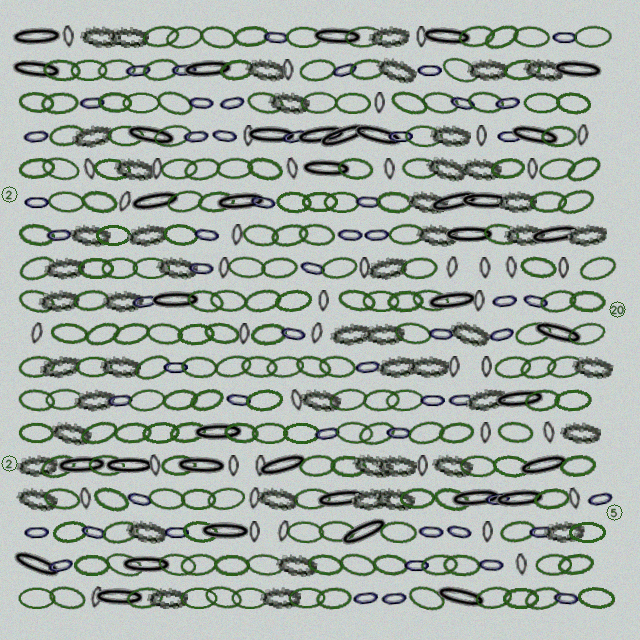chain: (335, 511, 394, 553), (7, 545, 66, 585), (314, 117, 373, 155), (529, 316, 587, 351), (254, 448, 312, 483), (349, 119, 407, 153), (426, 185, 484, 219), (515, 449, 573, 482), (432, 581, 490, 614), (122, 120, 180, 152), (506, 120, 564, 152), (127, 186, 184, 217), (527, 220, 584, 250), (293, 121, 350, 150), (8, 56, 65, 84), (424, 287, 481, 315), (313, 485, 370, 513), (563, 151, 605, 187), (492, 386, 548, 413), (448, 485, 504, 512), (439, 53, 482, 87), (131, 350, 174, 384), (419, 24, 475, 50), (550, 57, 606, 83), (213, 189, 269, 215), (492, 486, 548, 512), (374, 54, 419, 86), (481, 20, 523, 54), (554, 185, 597, 218), (180, 57, 236, 82), (54, 453, 110, 478), (424, 153, 469, 184), (447, 318, 492, 349), (463, 384, 508, 415), (9, 25, 65, 49), (154, 87, 196, 119), (388, 87, 430, 119), (16, 252, 58, 284), (577, 252, 619, 284), (82, 318, 124, 350), (78, 417, 120, 449), (90, 483, 132, 515), (103, 549, 145, 581), (310, 25, 365, 49), (70, 121, 114, 151), (299, 157, 354, 181), (365, 253, 409, 283), (174, 454, 229, 478), (38, 450, 79, 482), (406, 582, 447, 614), (38, 352, 82, 381), (351, 451, 395, 480), (244, 124, 299, 147), (458, 190, 513, 213), (148, 289, 203, 312), (191, 421, 246, 444), (198, 520, 253, 543), (92, 586, 147, 609), (110, 319, 152, 349), (356, 418, 398, 448), (337, 550, 379, 580), (522, 583, 564, 613), (125, 221, 169, 249), (49, 419, 93, 447), (15, 485, 59, 513), (16, 286, 57, 316), (566, 319, 607, 349), (293, 352, 334, 382), (518, 352, 559, 382), (431, 484, 472, 514), (442, 224, 497, 246), (102, 455, 157, 477), (119, 554, 174, 576), (565, 221, 608, 249), (329, 320, 372, 348), (349, 485, 392, 513), (187, 385, 227, 415), (40, 154, 81, 183), (244, 154, 285, 183), (242, 286, 283, 315), (336, 286, 377, 315), (406, 418, 447, 447), (203, 583, 244, 612), (376, 353, 419, 380), (431, 452, 474, 479), (256, 485, 299, 512), (125, 518, 168, 545), (165, 187, 205, 216), (513, 319, 553, 348), (213, 352, 253, 381), (47, 583, 87, 612), (164, 23, 205, 51), (245, 89, 286, 117), (420, 89, 461, 117), (152, 122, 193, 150), (537, 155, 578, 183), (269, 221, 310, 249), (185, 287, 226, 315), (198, 23, 238, 51), (182, 155, 222, 183), (319, 254, 359, 282), (538, 287, 578, 315), (100, 518, 140, 546), (113, 156, 156, 182), (406, 189, 449, 215), (43, 255, 86, 281), (571, 354, 614, 380), (73, 387, 116, 413), (299, 387, 342, 413), (373, 486, 416, 512), (275, 552, 318, 578), (545, 353, 586, 380), (141, 23, 181, 50), (47, 122, 87, 149), (79, 188, 119, 215), (518, 254, 558, 281), (273, 287, 313, 314), (202, 320, 242, 347), (393, 320, 433, 347), (328, 386, 368, 413), (206, 485, 246, 512), (498, 518, 538, 545), (157, 551, 197, 578), (457, 23, 496, 50), (141, 56, 180, 83), (466, 89, 505, 116), (17, 221, 56, 248), (482, 221, 521, 248), (411, 287, 450, 314), (168, 419, 207, 446), (51, 518, 90, 545), (556, 551, 595, 578), (474, 584, 513, 611), (368, 24, 410, 49), (245, 57, 287, 82), (523, 57, 565, 82), (268, 90, 310, 115), (156, 255, 198, 280), (38, 288, 80, 313), (16, 453, 58, 478), (543, 519, 585, 544), (502, 57, 542, 83), (92, 156, 132, 182), (196, 189, 236, 215), (265, 354, 305, 380), (127, 387, 167, 413), (244, 387, 284, 413), (491, 453, 531, 479), (42, 486, 82, 512), (147, 486, 187, 512), (245, 552, 285, 578), (125, 585, 165, 611), (298, 57, 337, 83), (554, 90, 593, 116), (241, 222, 280, 248), (145, 321, 184, 347), (249, 321, 288, 347), (493, 354, 532, 380), (17, 387, 56, 413), (161, 387, 200, 413), (523, 387, 562, 413), (437, 420, 476, 446), (532, 486, 571, 512), (306, 552, 345, 578), (371, 552, 410, 578), (460, 157, 502, 181), (69, 223, 111, 247), (416, 223, 458, 247), (102, 289, 144, 313), (363, 322, 405, 346), (49, 321, 89, 346), (576, 585, 616, 610), (218, 57, 256, 83), (328, 55, 362, 84), (348, 57, 387, 82), (17, 90, 56, 115), (17, 156, 56, 181), (336, 156, 375, 181), (297, 222, 336, 247), (227, 255, 266, 280), (72, 288, 111, 313), (209, 288, 248, 313), (17, 354, 56, 379), (141, 420, 180, 445), (335, 420, 374, 445), (496, 420, 535, 445), (558, 453, 597, 478), (181, 519, 220, 544), (179, 552, 218, 577), (446, 89, 480, 117), (278, 122, 312, 150), (296, 254, 330, 282), (519, 287, 553, 315), (485, 320, 519, 348), (123, 485, 157, 513), (77, 518, 111, 546), (44, 551, 78, 579), (232, 24, 270, 49), (489, 156, 527, 181), (162, 222, 200, 247), (240, 354, 278, 379), (318, 354, 356, 379), (298, 453, 336, 478), (80, 25, 121, 48), (467, 58, 508, 81), (430, 124, 471, 147), (496, 190, 537, 213), (504, 223, 545, 246), (100, 355, 141, 378), (408, 355, 449, 378), (560, 421, 601, 444), (376, 454, 417, 477), (260, 586, 301, 609), (344, 25, 383, 49), (512, 25, 551, 49), (42, 58, 81, 82), (97, 58, 136, 82), (40, 91, 79, 115), (404, 124, 443, 148), (260, 256, 299, 280), (176, 322, 215, 346), (180, 355, 219, 379), (385, 388, 424, 412), (553, 388, 592, 412), (113, 421, 152, 445), (286, 520, 325, 544), (379, 520, 418, 544), (420, 553, 459, 577), (442, 553, 481, 577), (540, 124, 578, 148), (160, 157, 198, 181), (47, 190, 85, 214), (275, 190, 313, 214), (375, 190, 413, 214), (400, 256, 438, 280), (386, 289, 424, 313), (568, 289, 606, 313), (362, 388, 400, 412), (329, 454, 367, 478), (459, 454, 497, 478), (293, 487, 331, 511), (315, 586, 353, 610), (108, 26, 149, 48), (147, 587, 188, 609), (573, 25, 612, 48), (401, 157, 440, 180), (216, 89, 249, 116), (277, 320, 310, 347), (584, 485, 617, 512), (443, 518, 476, 545), (223, 421, 260, 445), (300, 91, 338, 114), (216, 157, 254, 180), (529, 190, 567, 213), (45, 388, 83, 411), (160, 454, 198, 477), (318, 520, 356, 543), (247, 189, 280, 215), (311, 420, 344, 446), (388, 223, 425, 246), (88, 454, 125, 477), (399, 487, 436, 510), (535, 553, 572, 576), (70, 59, 108, 81), (122, 92, 160, 114), (523, 92, 561, 114), (132, 257, 170, 279), (362, 290, 400, 312), (75, 356, 113, 378), (251, 422, 289, 444), (282, 422, 320, 444), (568, 521, 606, 543), (18, 587, 56, 609), (180, 587, 218, 609), (231, 587, 269, 609), (288, 587, 326, 609), (129, 288, 161, 314), (97, 91, 133, 114), (285, 26, 322, 48), (334, 92, 371, 114), (107, 125, 144, 147), (301, 191, 338, 213), (323, 191, 360, 213), (95, 224, 132, 246), (77, 257, 114, 279), (101, 257, 138, 279), (18, 422, 55, 444), (180, 488, 217, 510), (73, 554, 110, 576), (213, 554, 250, 576), (502, 587, 539, 609), (492, 90, 524, 115), (209, 123, 241, 148), (191, 222, 223, 247), (489, 288, 521, 313), (352, 354, 384, 379), (223, 387, 255, 412), (482, 486, 514, 511), (350, 585, 382, 610), (261, 25, 292, 49), (123, 58, 154, 82), (21, 124, 52, 148), (181, 124, 212, 148), (186, 256, 217, 280), (105, 388, 136, 412), (379, 586, 410, 610), (551, 586, 582, 610), (169, 58, 200, 81), (77, 91, 108, 114), (186, 91, 217, 114), (353, 190, 384, 213), (44, 223, 75, 246), (335, 223, 366, 246), (426, 322, 457, 345), (446, 388, 477, 411), (416, 520, 447, 543), (476, 553, 507, 576), (362, 223, 392, 246), (384, 421, 414, 444), (527, 520, 557, 543), (550, 26, 580, 48), (415, 59, 445, 81), (386, 125, 416, 147), (495, 125, 525, 147), (22, 191, 52, 213), (161, 356, 191, 378), (418, 389, 448, 411), (22, 521, 52, 543), (162, 521, 192, 543), (402, 554, 432, 576), (116, 190, 133, 214), (82, 157, 98, 181), (289, 388, 305, 412), (285, 157, 300, 180), (29, 322, 44, 345), (309, 322, 324, 345), (567, 487, 582, 510), (276, 520, 291, 543), (89, 586, 104, 609), (445, 256, 459, 279), (542, 421, 556, 444), (148, 454, 162, 477), (62, 25, 75, 48), (576, 124, 589, 147), (505, 256, 518, 279), (79, 487, 92, 510), (248, 487, 261, 510), (515, 553, 528, 576), (383, 158, 396, 180), (282, 59, 294, 81), (151, 158, 163, 180), (231, 224, 243, 246), (218, 257, 230, 279), (479, 257, 491, 279), (473, 290, 485, 312), (238, 323, 250, 345), (448, 356, 460, 378), (416, 26, 427, 48), (374, 92, 385, 114), (243, 125, 254, 147), (476, 125, 487, 147), (527, 158, 538, 180), (359, 257, 370, 279), (558, 257, 569, 279), (318, 290, 329, 312), (481, 356, 492, 378), (480, 422, 491, 444), (228, 455, 239, 477), (255, 455, 266, 477), (417, 455, 428, 477), (249, 521, 260, 543), (482, 521, 493, 543)
noise: (604, 502, 624, 522), (607, 299, 627, 319), (0, 184, 19, 204), (0, 453, 19, 473)
